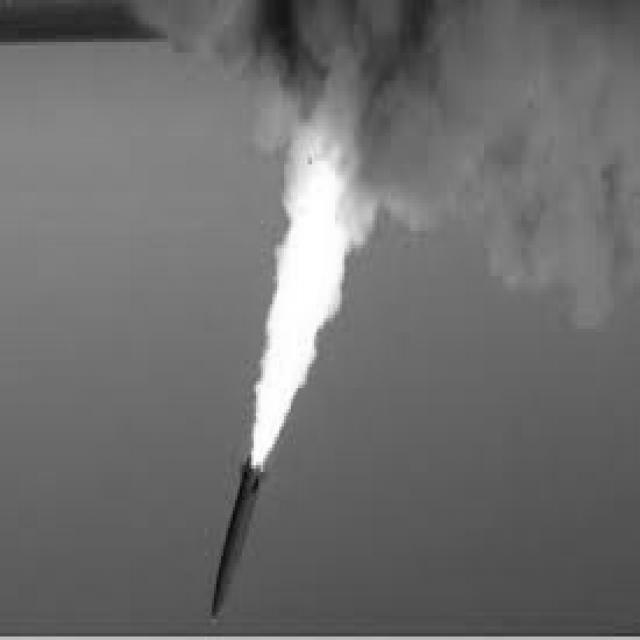missile: (202, 446, 270, 633)
